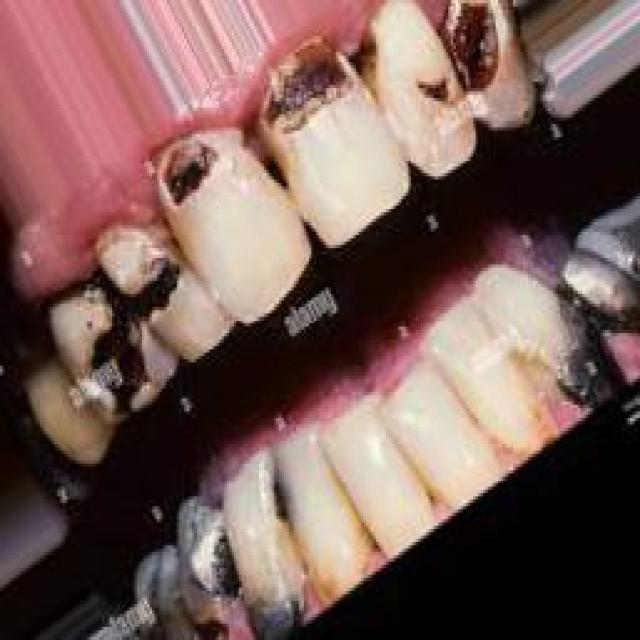caries: (253, 35, 349, 162), (72, 293, 152, 416), (148, 126, 230, 221), (436, 0, 505, 101), (116, 238, 188, 332), (348, 22, 396, 114), (255, 471, 306, 546), (184, 586, 241, 640), (409, 57, 450, 116)
